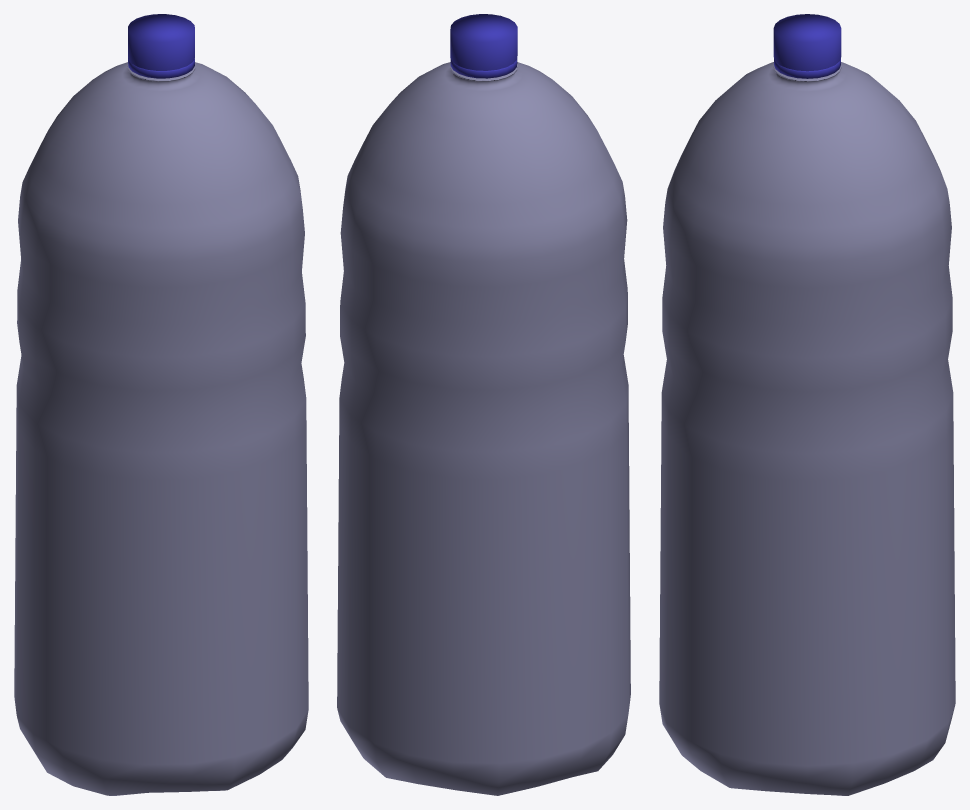
File: Botella_low.fbx
3 views of the same model, side by side, from view 1: azimuth 30°, elevation 25°; view 2: azimuth 150°, elevation 25°; view 3: azimuth 270°, elevation 25° (orthographic).
Parts seen in each view (by area): view 1: Botella_low; view 2: Botella_low; view 3: Botella_low.
Boxes of the visible parts, x1=… form: Botella_low: x1=14, y1=14, x2=308, y2=795; Botella_low: x1=337, y1=14, x2=630, y2=795; Botella_low: x1=659, y1=14, x2=955, y2=795.
Bounding box in the file's own units: 1.24 × 3.36 × 1.24.
